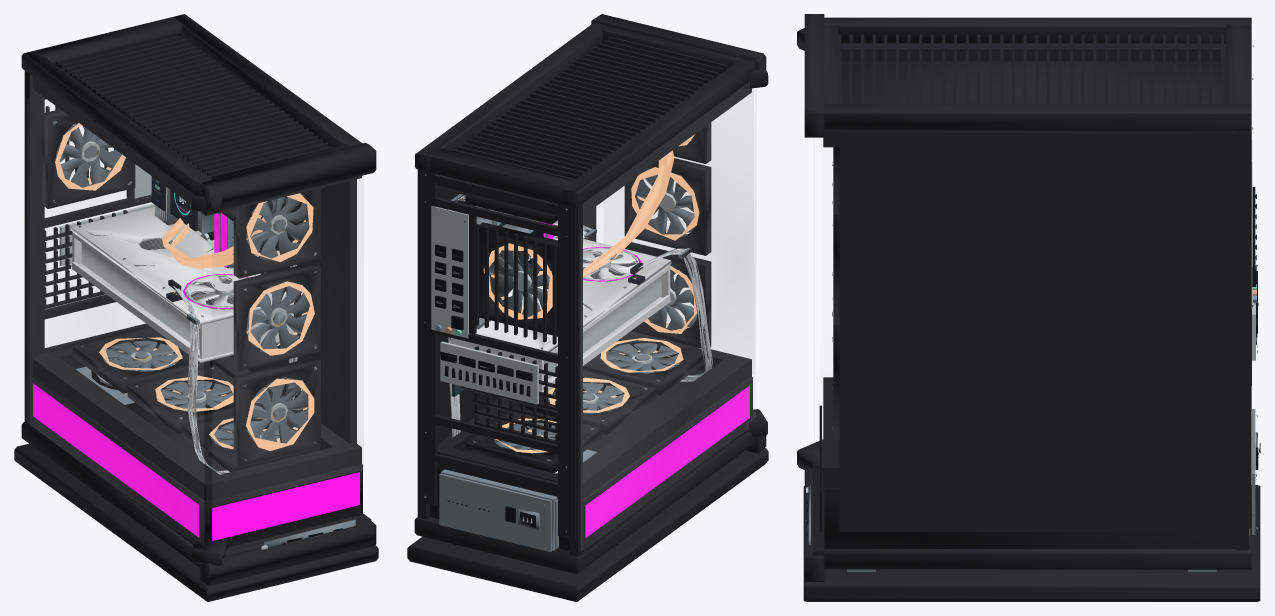
The model's file is display88-sunset.glb.
The picture shows the model from 3 angles, left to right: view 1: azimuth 30°, elevation 25°; view 2: azimuth 150°, elevation 25°; view 3: azimuth 270°, elevation 25°; orthographic projection. The views are drawn at different scales.
Parts seen in each view (by area): view 1: s83-surface-9addd415-0fd4-499e-b045-a3b5ee8d4a1f, s83-surface-b78ac276-4bc9-493d-9145-a3e29bf0c82e, s83-surface-aa7f7e0b-ae0c-48e4-bd0b-5f0b10c7bdc0, s83-surface-56c3fbcf-b8f9-4d30-9ceb-991485d7e2bf; view 2: s83-surface-9addd415-0fd4-499e-b045-a3b5ee8d4a1f, s83-surface-b7561736-e6b9-4268-9775-73a61760704b, s83-surface-b78ac276-4bc9-493d-9145-a3e29bf0c82e, s83-surface-aa7f7e0b-ae0c-48e4-bd0b-5f0b10c7bdc0; view 3: s83-surface-9addd415-0fd4-499e-b045-a3b5ee8d4a1f.
Boxes of the visible parts, x1,y1,x2,y2 form: s83-surface-9addd415-0fd4-499e-b045-a3b5ee8d4a1f: (14, 14, 378, 601); s83-surface-b78ac276-4bc9-493d-9145-a3e29bf0c82e: (33, 213, 359, 540); s83-surface-aa7f7e0b-ae0c-48e4-bd0b-5f0b10c7bdc0: (55, 123, 314, 450); s83-surface-56c3fbcf-b8f9-4d30-9ceb-991485d7e2bf: (171, 190, 193, 228); s83-surface-9addd415-0fd4-499e-b045-a3b5ee8d4a1f: (407, 14, 768, 601); s83-surface-b7561736-e6b9-4268-9775-73a61760704b: (603, 88, 754, 374); s83-surface-b78ac276-4bc9-493d-9145-a3e29bf0c82e: (541, 222, 749, 537); s83-surface-aa7f7e0b-ae0c-48e4-bd0b-5f0b10c7bdc0: (483, 134, 699, 453); s83-surface-9addd415-0fd4-499e-b045-a3b5ee8d4a1f: (797, 14, 1260, 601).
Bounding box in the file's own units: 1.37 × 2.99 × 2.56.
6 materials, 5 textured.
